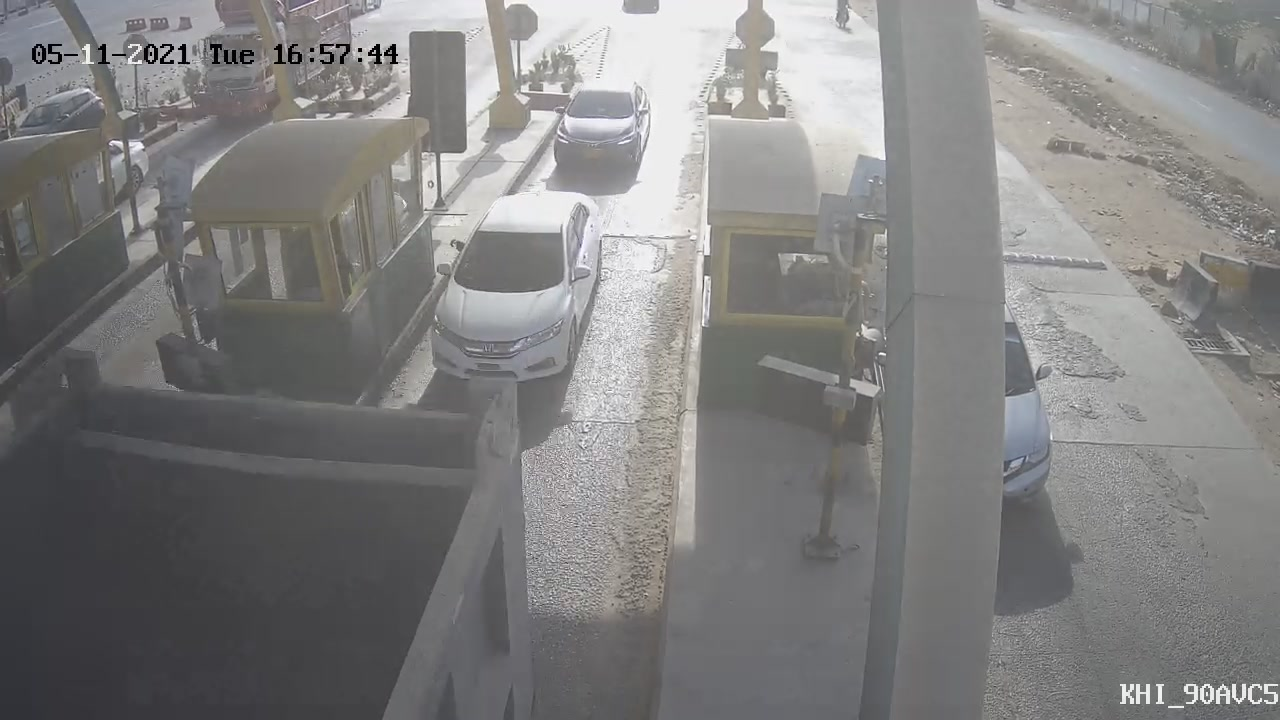F1: (408, 172, 625, 400), (537, 60, 666, 191)
